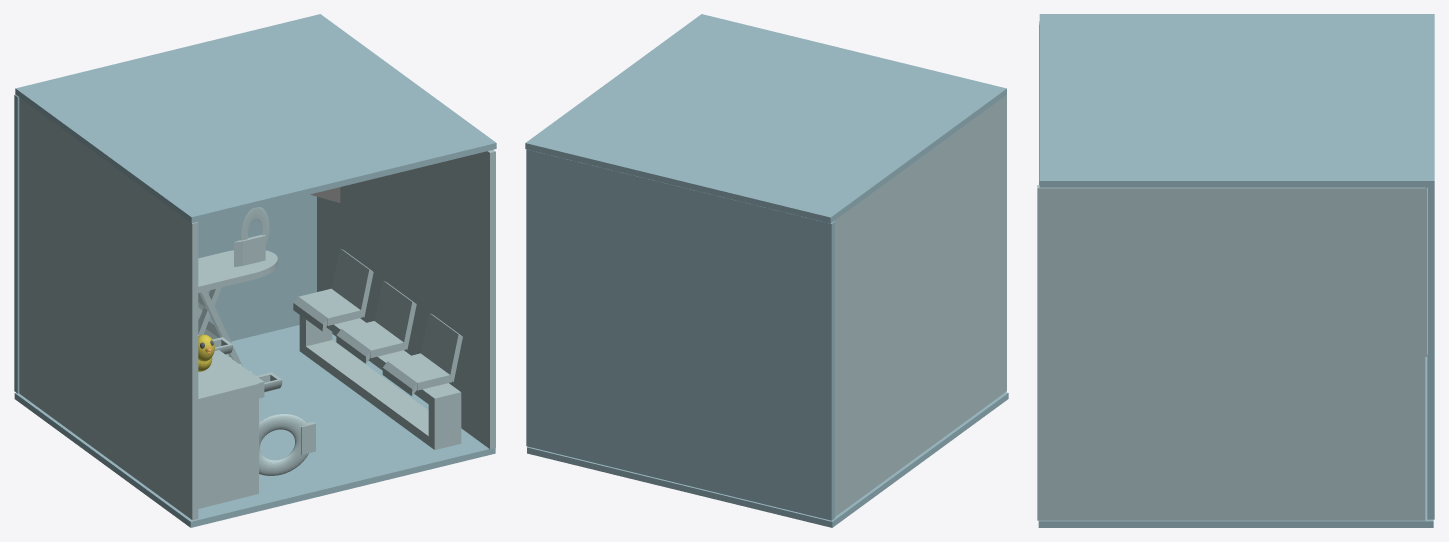
File: Laundromat.glb
The picture shows the model from 3 angles, left to right: view 1: azimuth 30°, elevation 25°; view 2: azimuth 150°, elevation 25°; view 3: azimuth 270°, elevation 25°; orthographic projection. The views are drawn at different scales.
Parts seen in each view (by area): view 1: Mesh_Mesh_head_geo.001_lambert2SG.001; view 2: Mesh_Mesh_head_geo.001_lambert2SG.001; view 3: Mesh_Mesh_head_geo.001_lambert2SG.001.
Boxes of the visible parts, x1,y1,x2,y2 form: Mesh_Mesh_head_geo.001_lambert2SG.001: [14, 14, 496, 527]; Mesh_Mesh_head_geo.001_lambert2SG.001: [525, 14, 1008, 527]; Mesh_Mesh_head_geo.001_lambert2SG.001: [1037, 14, 1434, 527].
Bounding box in the file's own units: 14.05 × 13.63 × 14.09.
